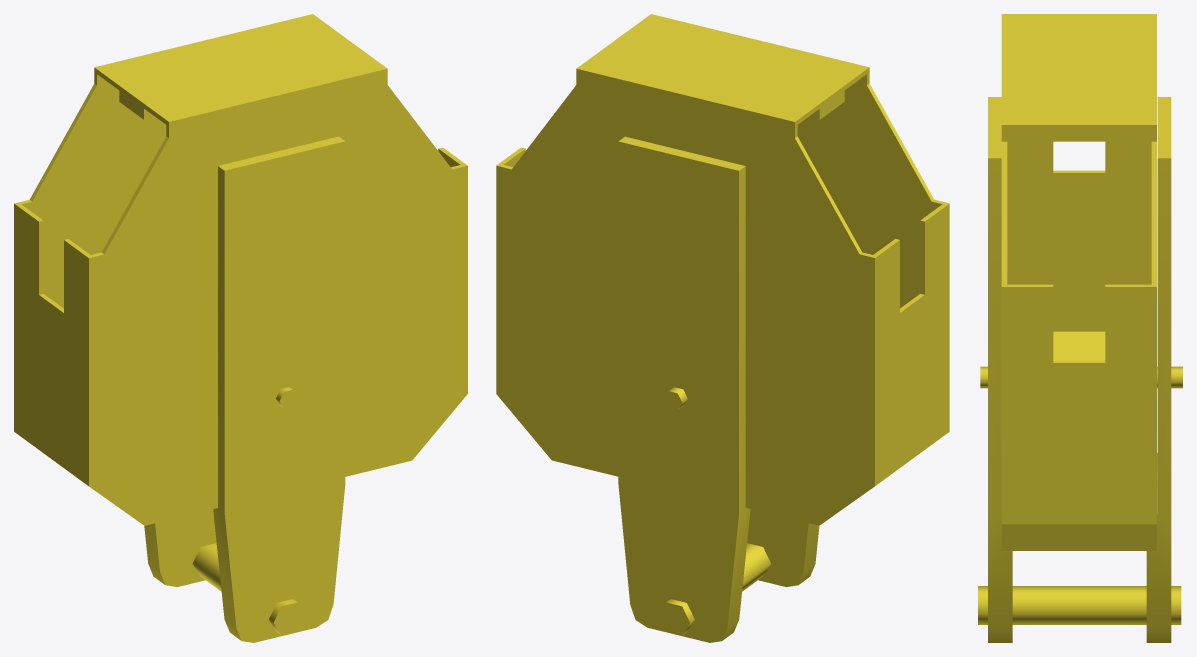
Rendered from MagnetHook.fbx.
3 renders of one model, left to right at view 1: azimuth 30°, elevation 25°; view 2: azimuth 150°, elevation 25°; view 3: azimuth 270°, elevation 25°, orthographic. The views are drawn at different scales.
Parts seen in each view (by area): view 1: magnetHook; view 2: magnetHook; view 3: magnetHook.
Boxes of the visible parts, x1=… form: magnetHook: x1=14, y1=14, x2=467, y2=642; magnetHook: x1=496, y1=14, x2=949, y2=642; magnetHook: x1=978, y1=14, x2=1182, y2=642.
Size of the model in its own units: 26.37 by 35.57 by 11.87.
